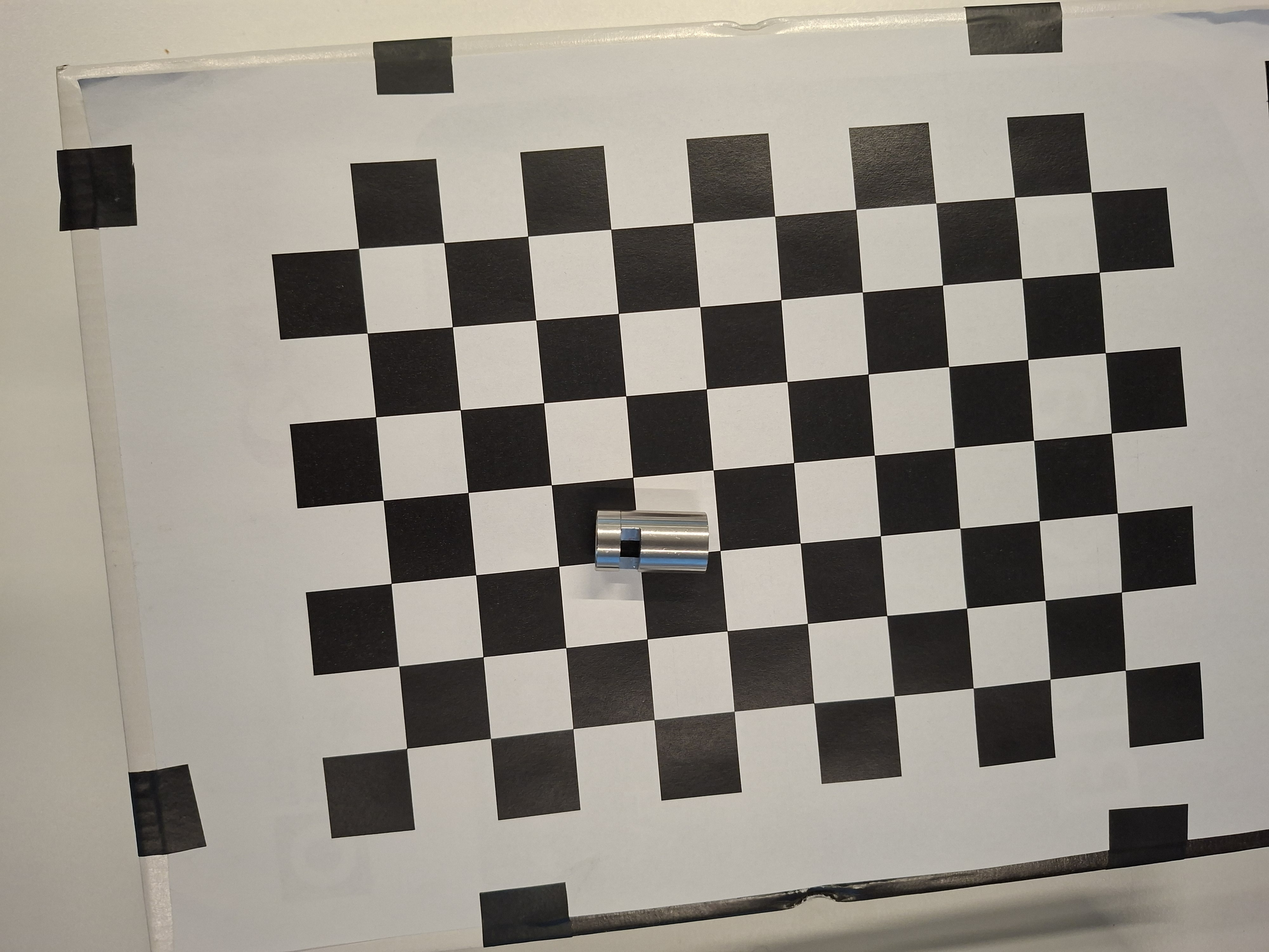barrel_nut: (583, 504, 715, 578)
